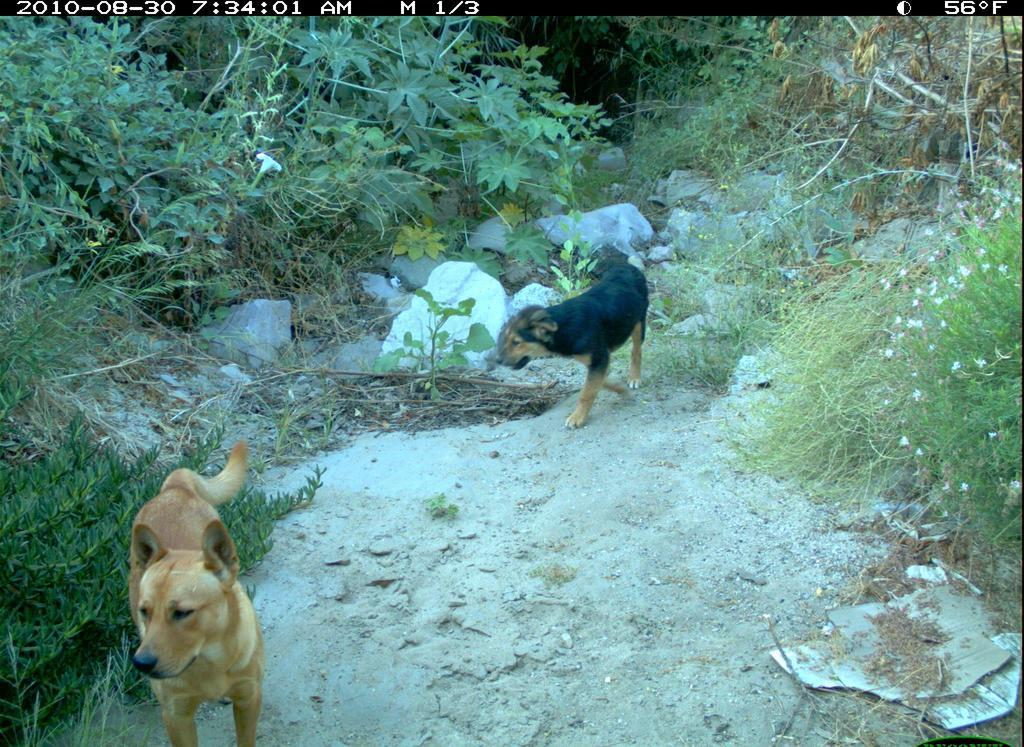dog: (105, 438, 317, 747), (486, 262, 664, 433)
